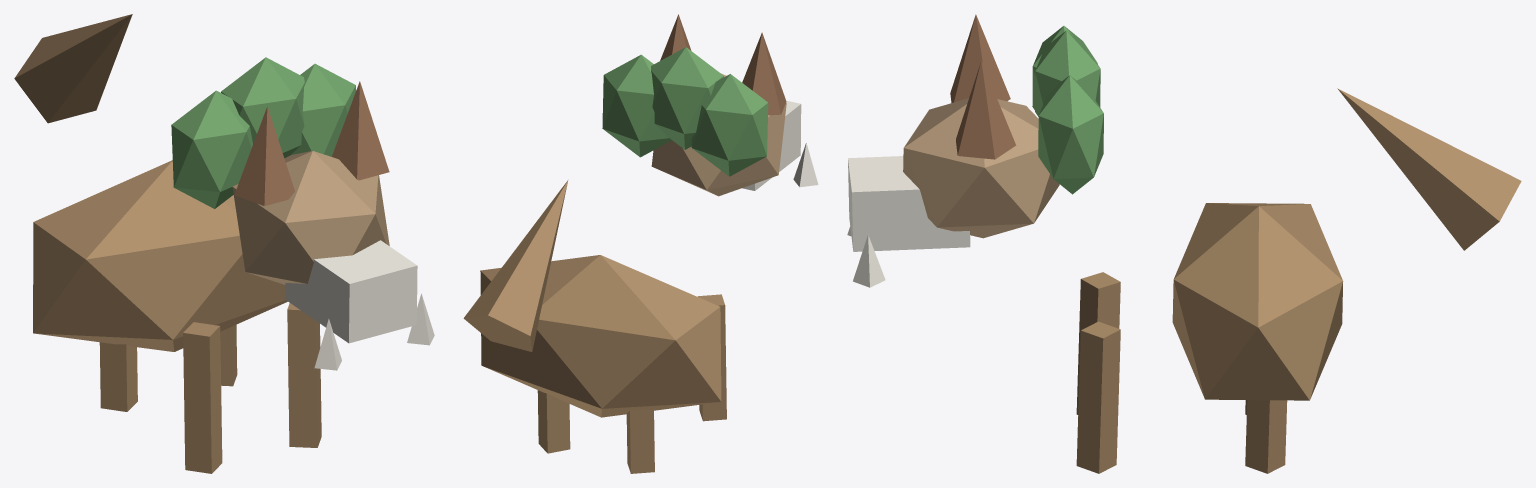
File: npcpose_wolf_attack_04.glb
3 renders of one model, left to right at view 1: azimuth 30°, elevation 25°; view 2: azimuth 150°, elevation 25°; view 3: azimuth 270°, elevation 25°, orthographic. The views are drawn at different scales.
Parts seen in each view (by area): view 1: npcpose; view 2: npcpose; view 3: npcpose.
Boxes of the visible parts, box(x1,y1,x2,y2) form: npcpose: box(14, 14, 434, 473); npcpose: box(463, 14, 818, 473); npcpose: box(847, 14, 1521, 473).
Size of the model in its own units: 0.8873 by 1.23 by 1.84.
